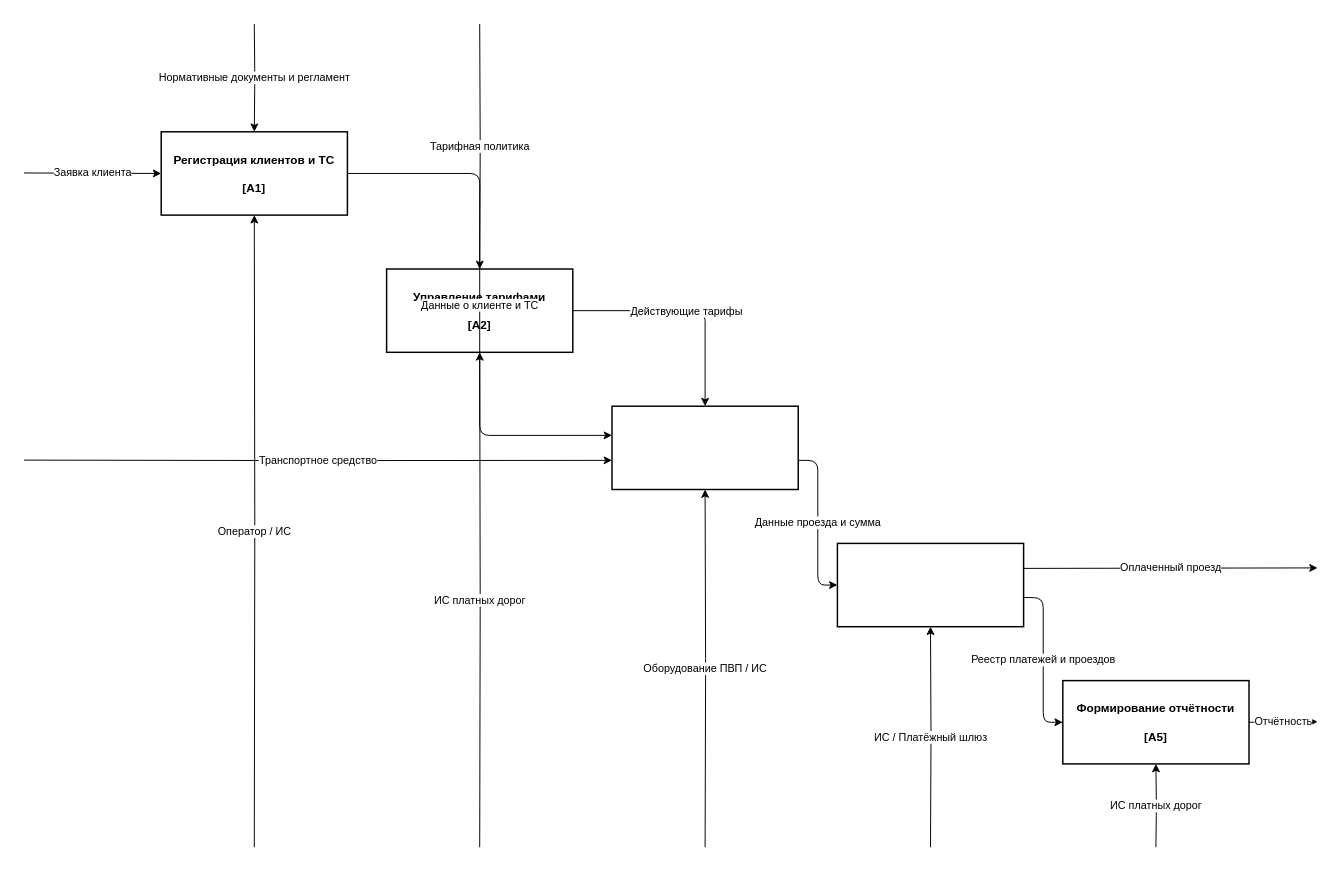
Some shapes in this 1343 by 872 pixel diagram are drawn without their labels. The shapes that lost their labels are listed below. From the top down, each one's centre as x and y in pixels, then its label:
point (705, 447): Фиксация проезда и расчёт стоимости [A3]
point (930, 584): Приём и учёт платежей [A4]
